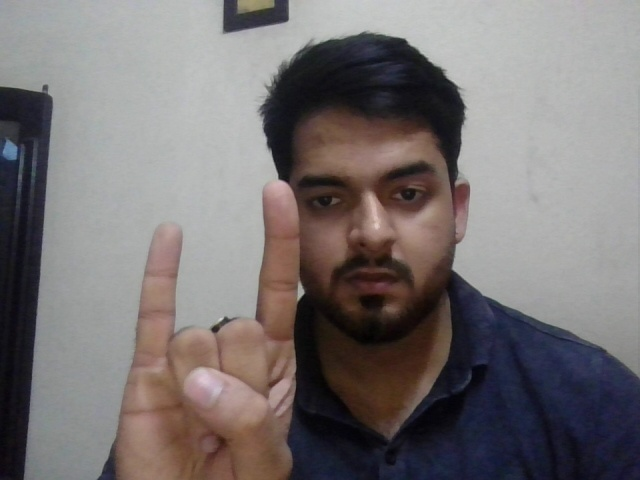iloveyou: (108, 178, 300, 479)
